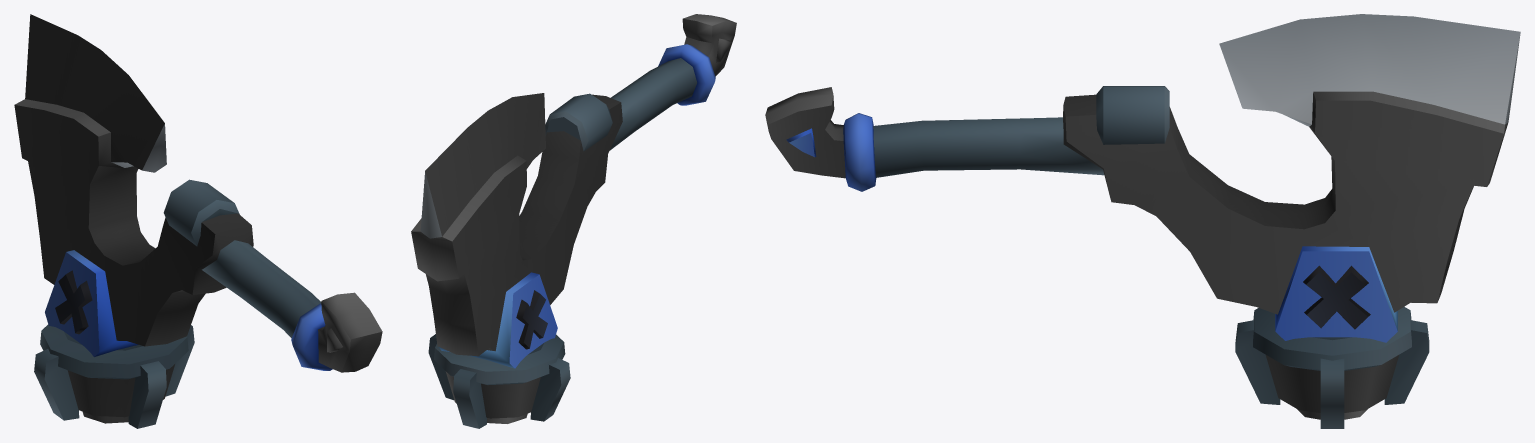
Rendered from Melee_Hatchet.fbx.
The picture shows the model from 3 angles, left to right: view 1: azimuth 30°, elevation 25°; view 2: azimuth 150°, elevation 25°; view 3: azimuth 270°, elevation 25°; orthographic projection. The views are drawn at different scales.
Parts seen in each view (by area): view 1: Melee_Hatchet; view 2: Melee_Hatchet; view 3: Melee_Hatchet.
Boxes of the visible parts, x1,y1,x2,y2 form: Melee_Hatchet: (14, 14, 382, 428); Melee_Hatchet: (411, 14, 736, 428); Melee_Hatchet: (765, 14, 1520, 428).
Bounding box in the file's own units: 0.2611 × 0.5813 × 1.02.
